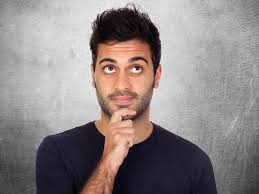Indian_Male: (93, 18, 164, 126)
